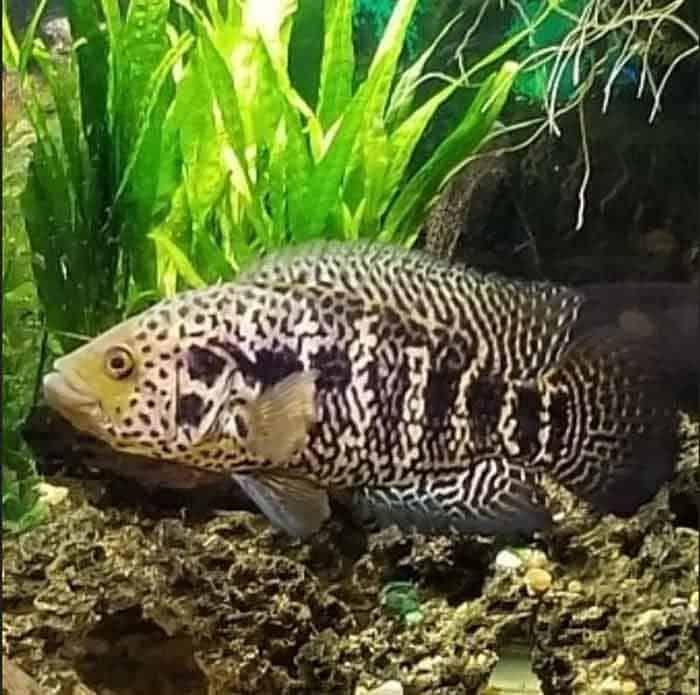Jaguar Gapote: (46, 238, 687, 553)
